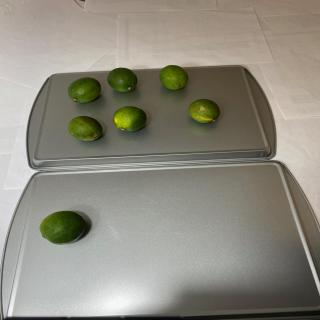Lemon: (39, 210, 86, 244), (68, 115, 102, 142), (113, 106, 147, 132), (67, 77, 101, 103), (188, 98, 220, 124), (107, 67, 137, 93), (159, 65, 189, 90)
